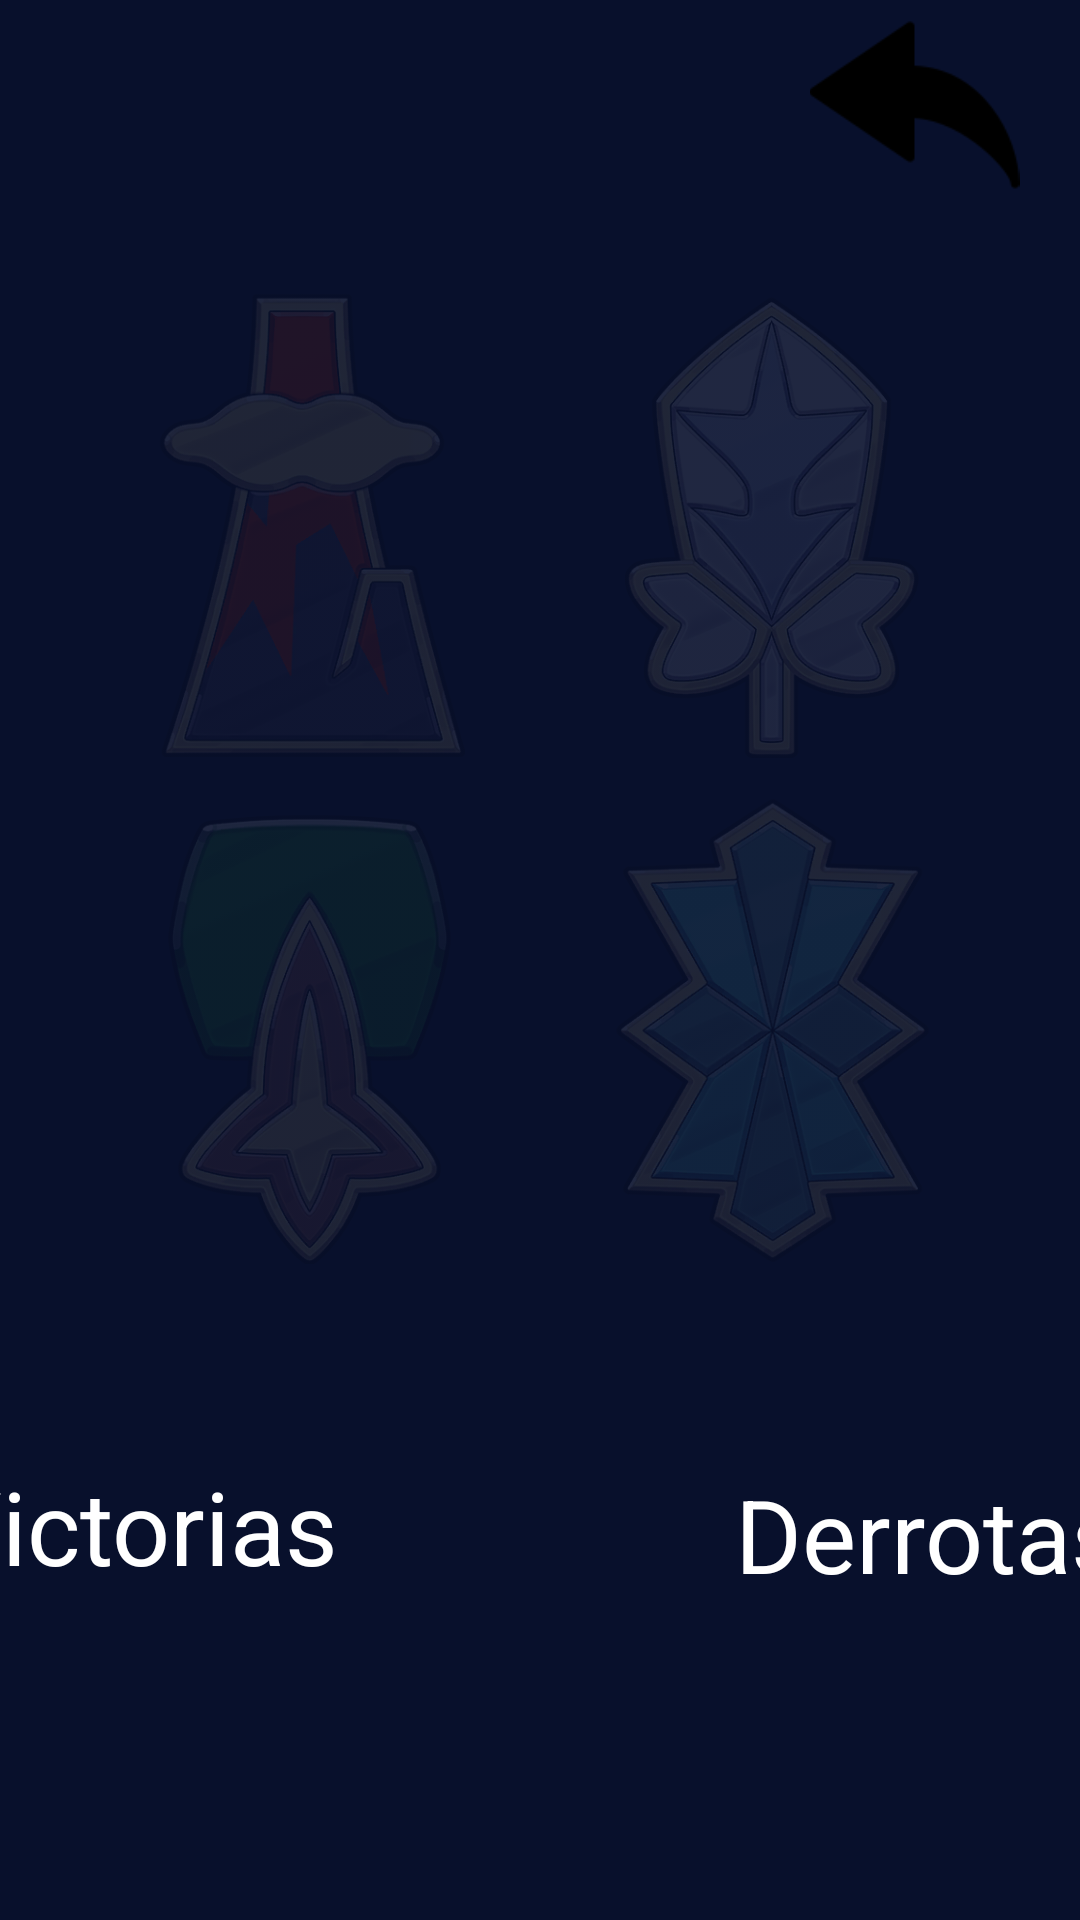

Named icons in this screenshot (1080×1920) and their bounding boxes, (x1,y1,x2,y2):
volver: (810,22,1020,188)
